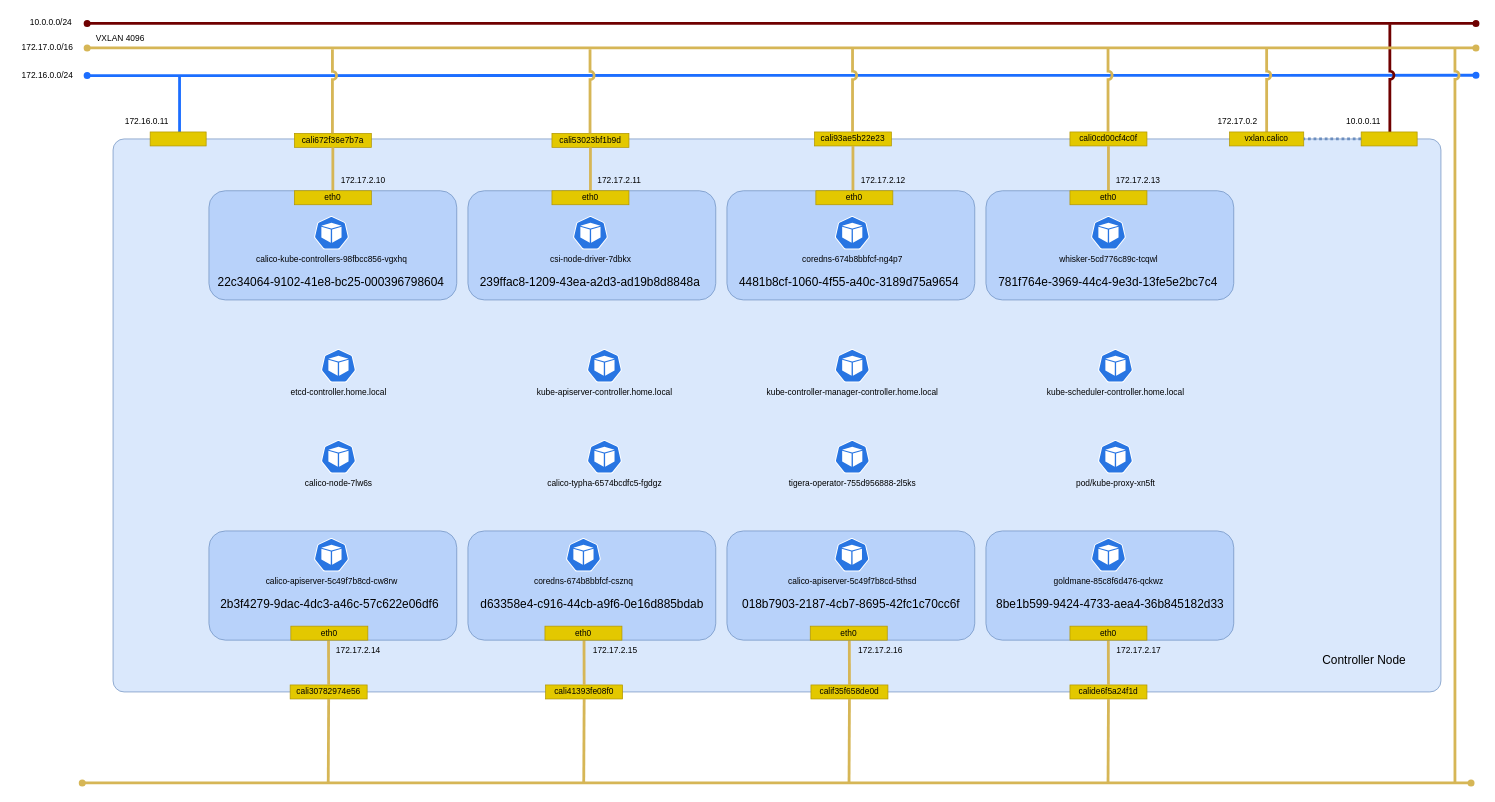
The diagram is 1495 pixels wide and 802 high, and some of its shapes have lost their labels. Each missing label, with the box of its shape:
enp1s0: (149, 131, 206, 146)
enp2s0: (1360, 131, 1417, 146)
